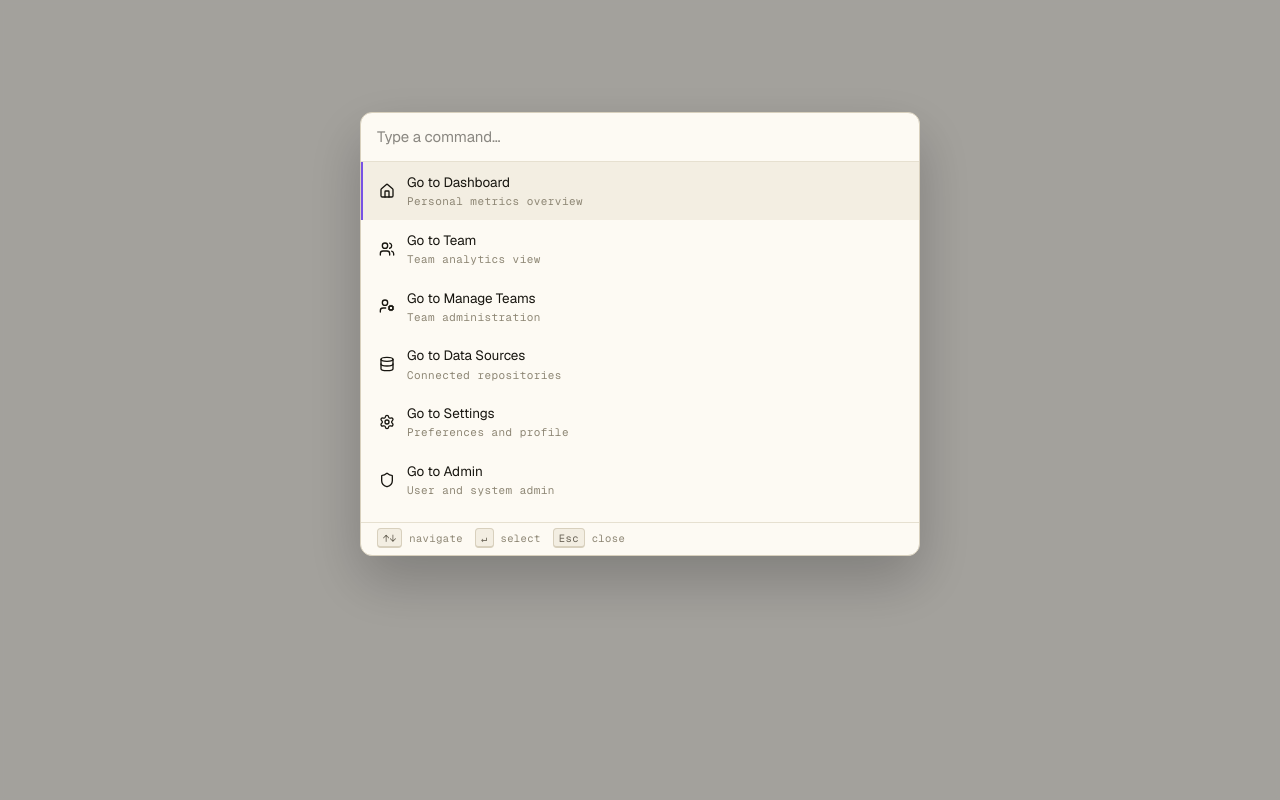
CommandPalette › typing "dash" filters to one result
This screenshot has width=1280, height=800.
Type "dash" into the field with placeholder "Type a command…".
click(640, 137); type("dash")  # box [377,126,903,148]
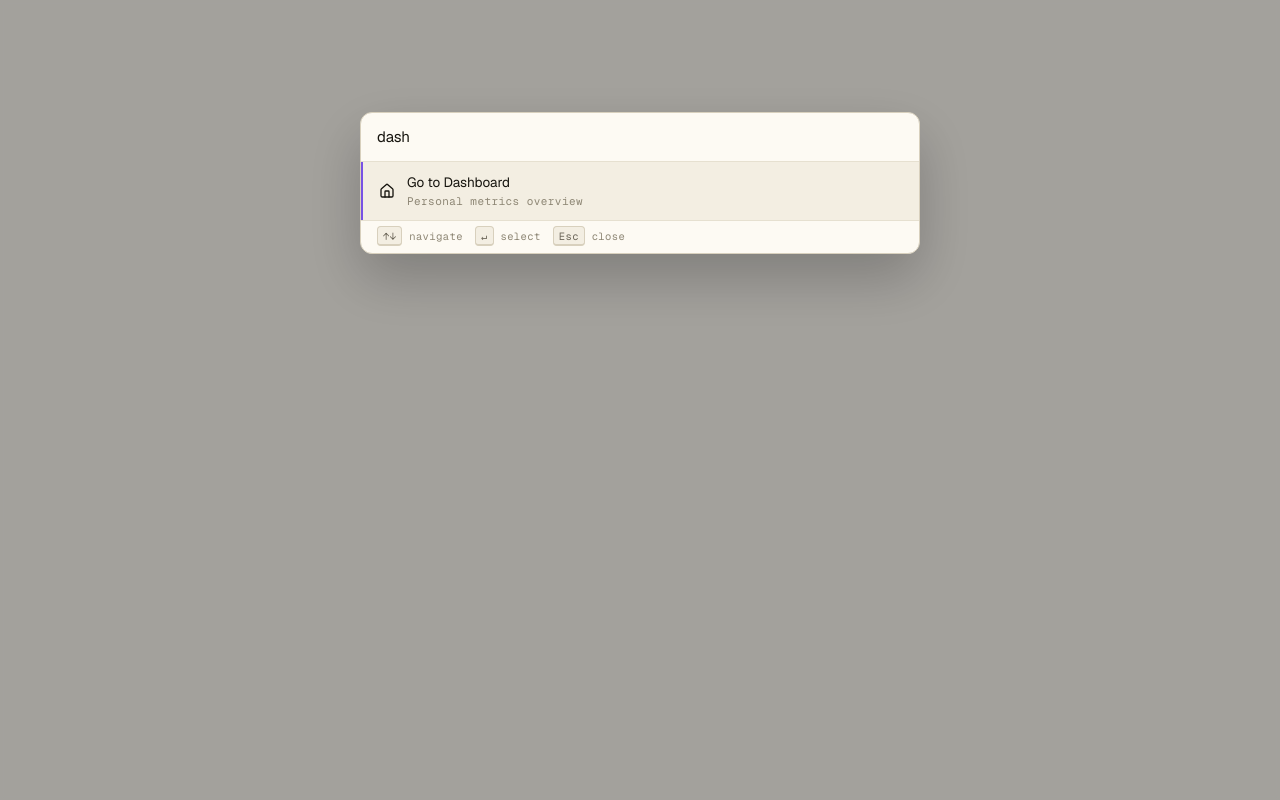
Expected: the text "Go to Dashboard" is shown, [407,173,510,191]
Now the button "Go to Team" is gone
Now the button "Go to Settings" is gone
